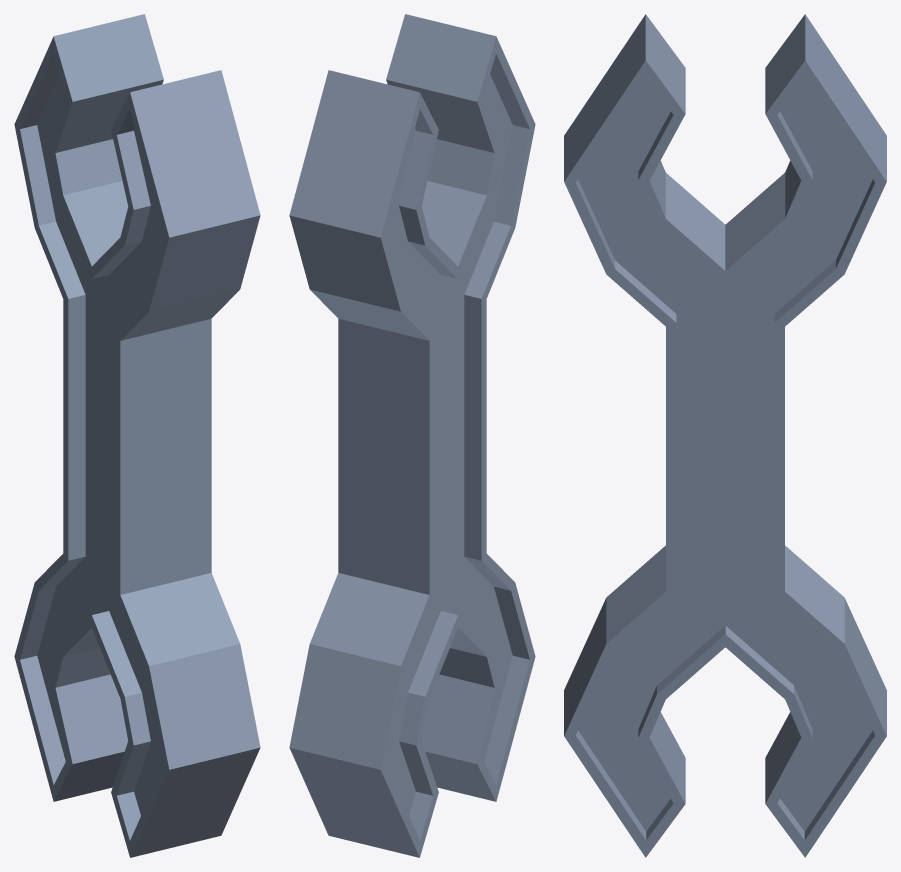
File: wrench.fbx
3 renders of one model, left to right at view 1: azimuth 30°, elevation 25°; view 2: azimuth 150°, elevation 25°; view 3: azimuth 270°, elevation 25°, orthographic. The views are drawn at different scales.
Parts seen in each view (by area): view 1: Cube; view 2: Cube; view 3: Cube.
Boxes of the visible parts, x1,y1,x2,y2 form: Cube: (14, 14, 260, 857); Cube: (289, 14, 535, 857); Cube: (564, 14, 886, 857).
Size of the model in its own units: 0.201 by 1.61 by 0.5909.
